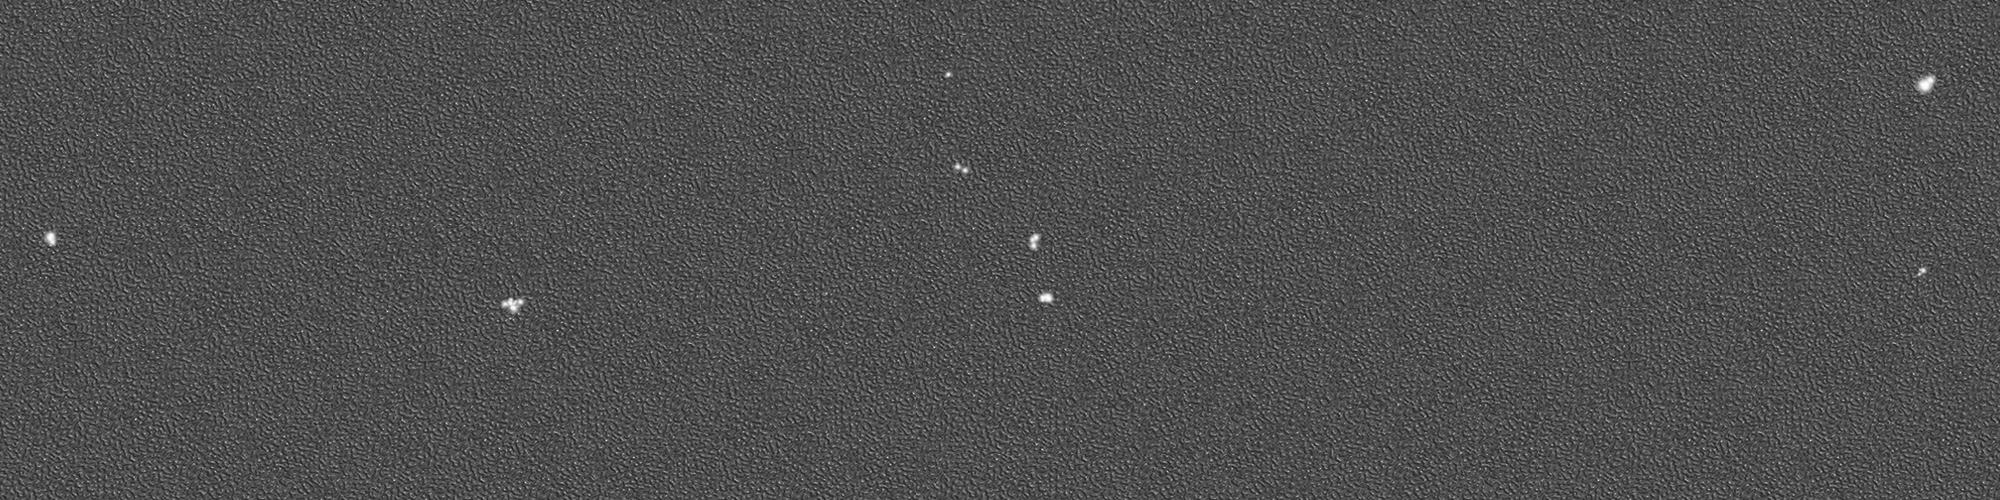Particles: (494, 297, 531, 319), (1911, 73, 1940, 99), (36, 227, 59, 253), (1033, 290, 1057, 307), (1027, 230, 1043, 253), (941, 69, 955, 80), (1916, 264, 1927, 278), (960, 167, 971, 176), (953, 163, 960, 170)
